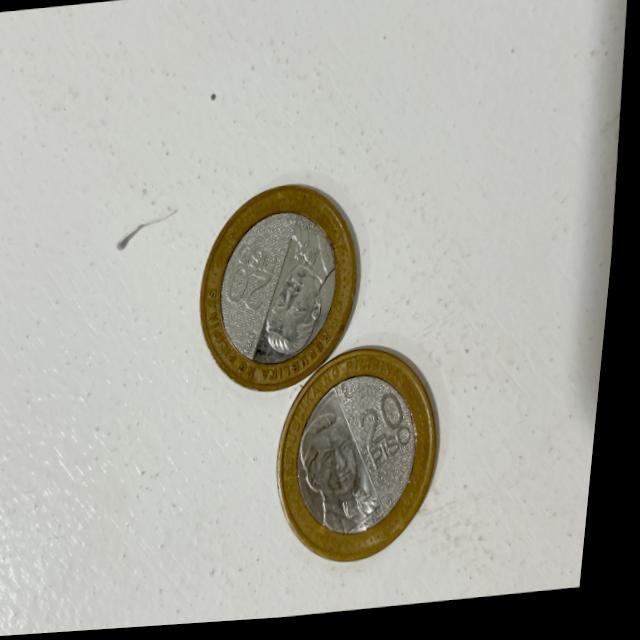20_New_Front: (363, 397, 413, 450), (231, 264, 278, 315)
